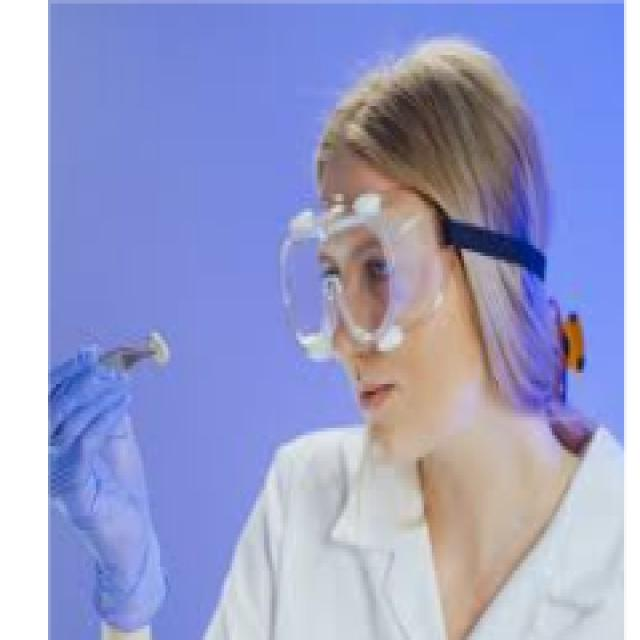glasses: (267, 199, 481, 362)
